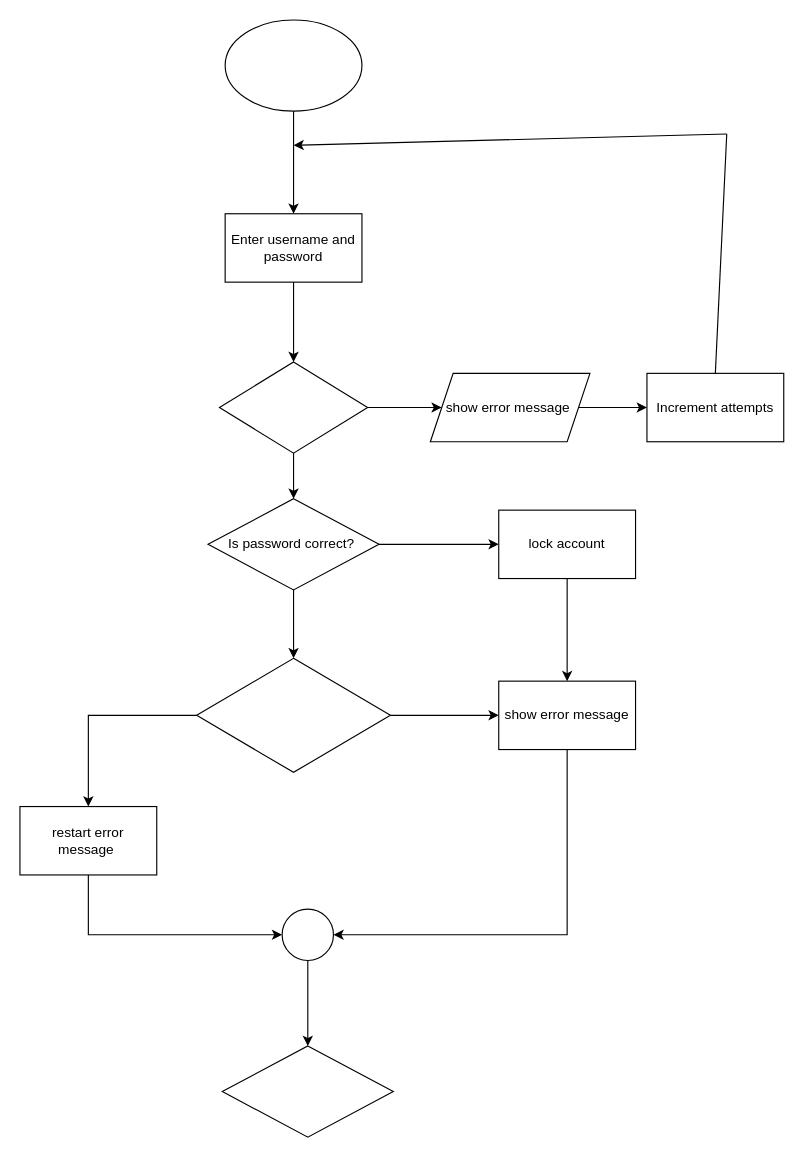
Some shapes in this 804 by 1157 pixel diagram are drawn without their labels. Here are the shapes that lost their labels. From the top down, the box of each, then its label:
(224, 19, 362, 111): start
(218, 361, 368, 453): Is username valid?
(196, 657, 390, 772): Have 3 attempts been exceeded?
(221, 1045, 393, 1137): end
